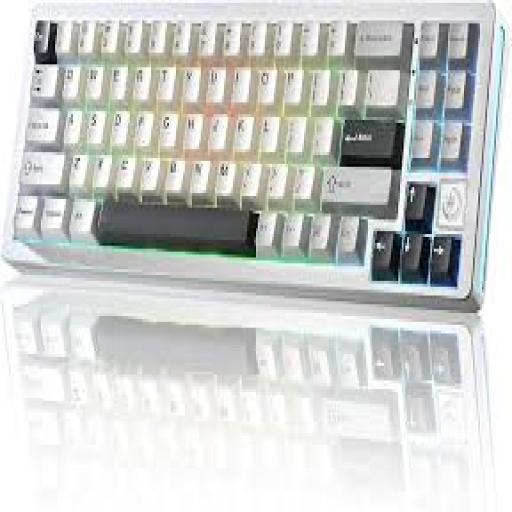keyboard: (4, 0, 507, 307)
